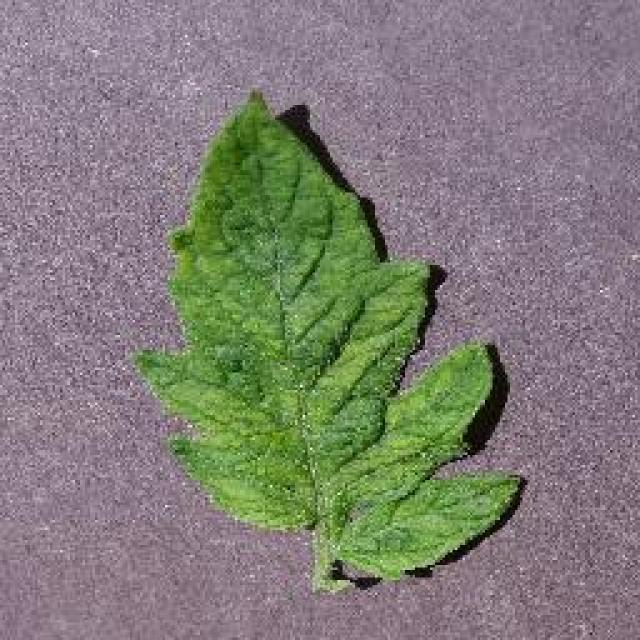Tomato mosaic virus leaf: (133, 92, 525, 576)
